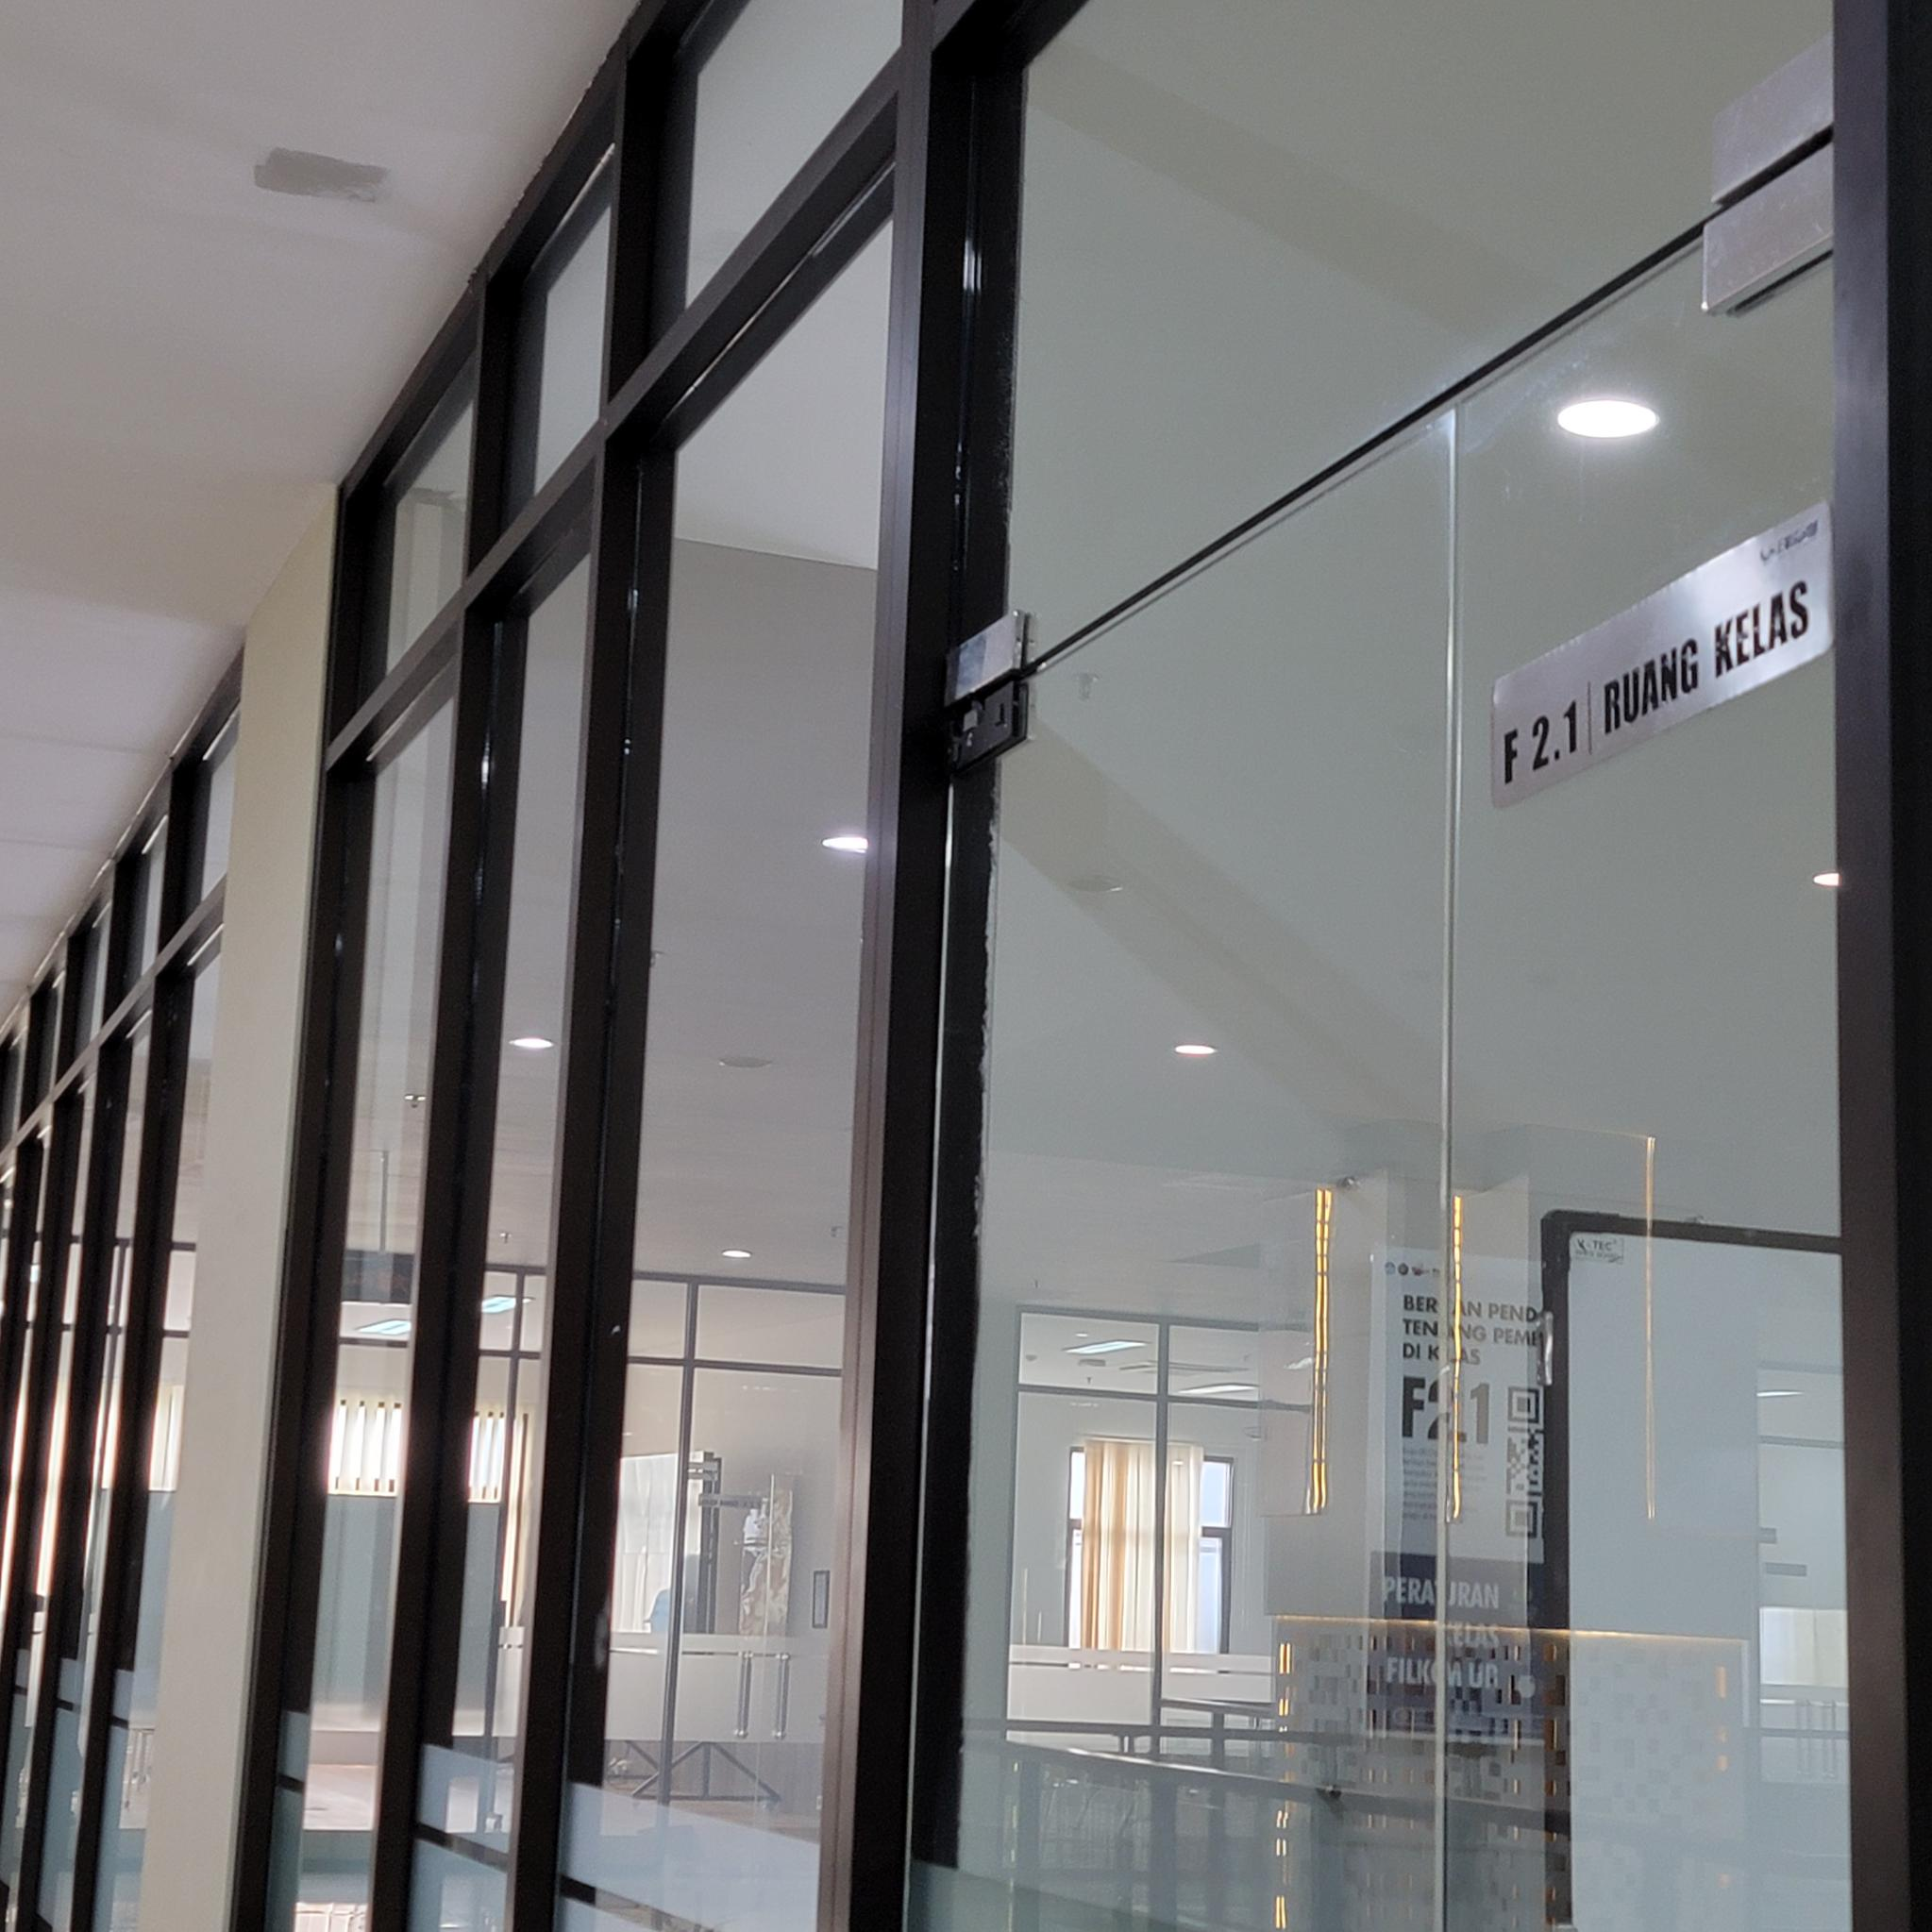plate: (1491, 501, 1835, 814)
